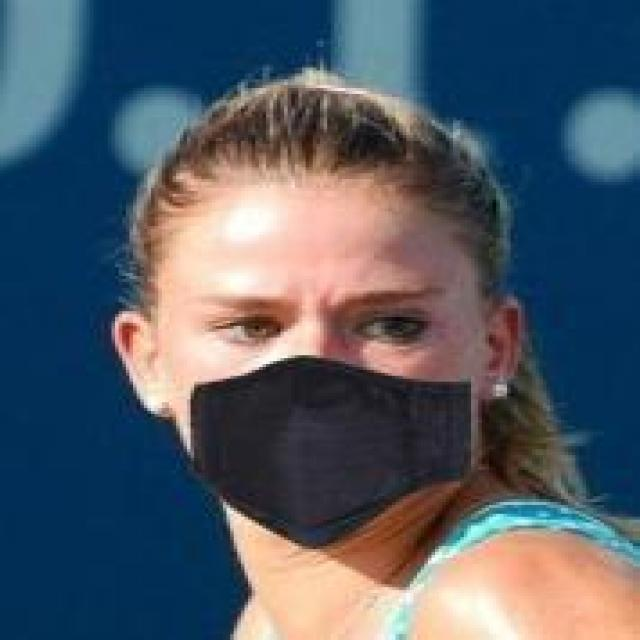mask: (90, 85, 554, 546)
